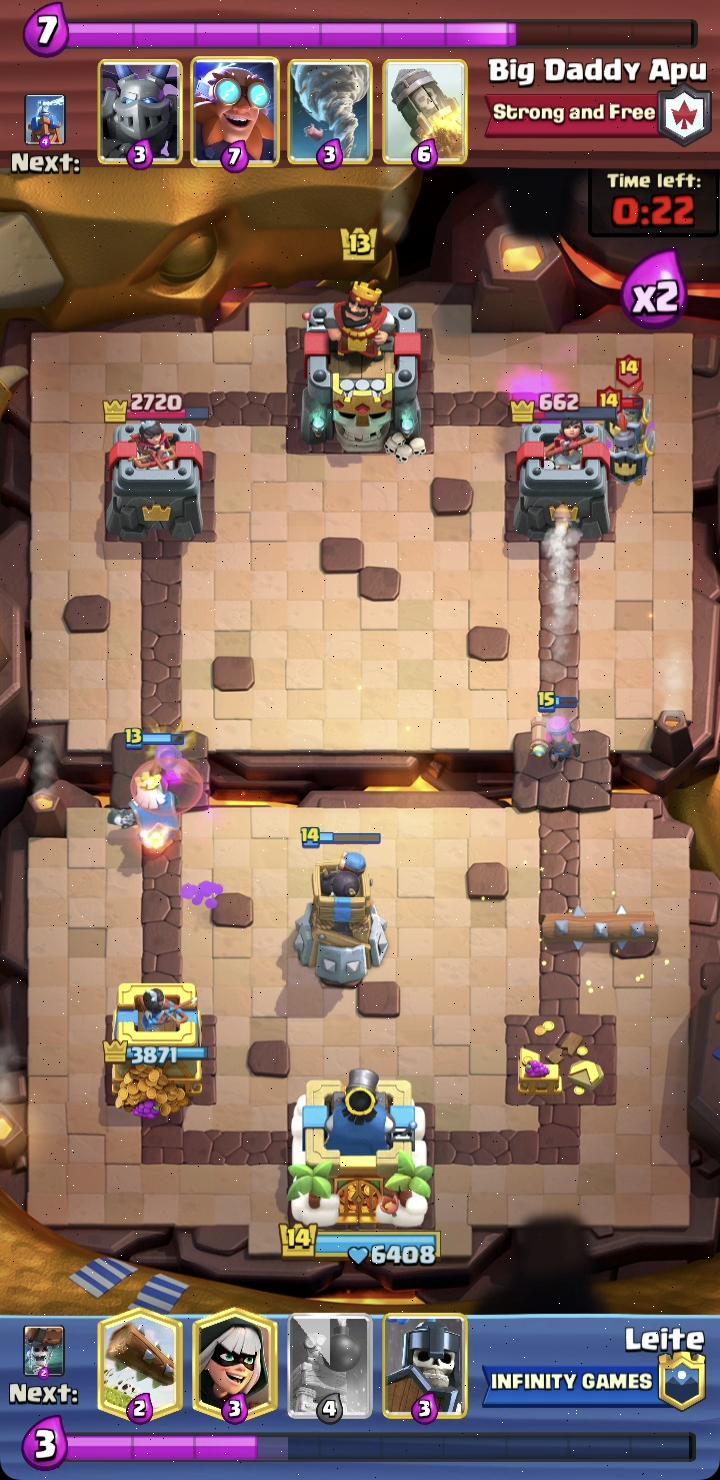EGuard: (606, 410, 653, 483), (603, 354, 650, 419), (596, 386, 632, 435)
EnemyPrincessTower: (516, 413, 611, 541), (105, 422, 202, 541)
OBombertower: (294, 835, 387, 986)
OFirecrack: (523, 692, 608, 779)
ORoyalGhost: (108, 771, 179, 854)
OwnKingTower: (288, 1069, 432, 1227)
OwnPrincessTower: (103, 984, 208, 1098)
TowerDown: (507, 1014, 616, 1103)
